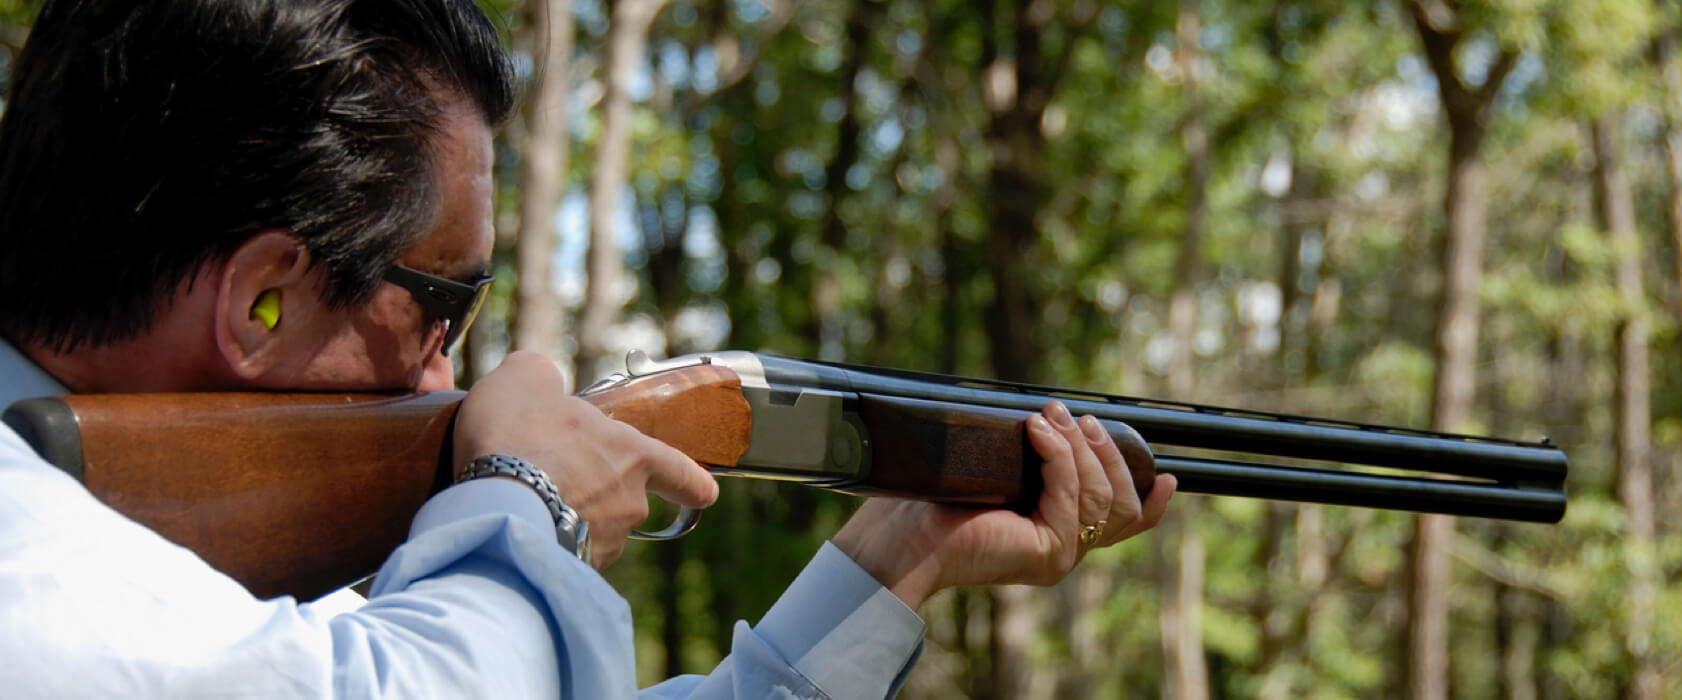Gun: (560, 256, 1580, 545)
